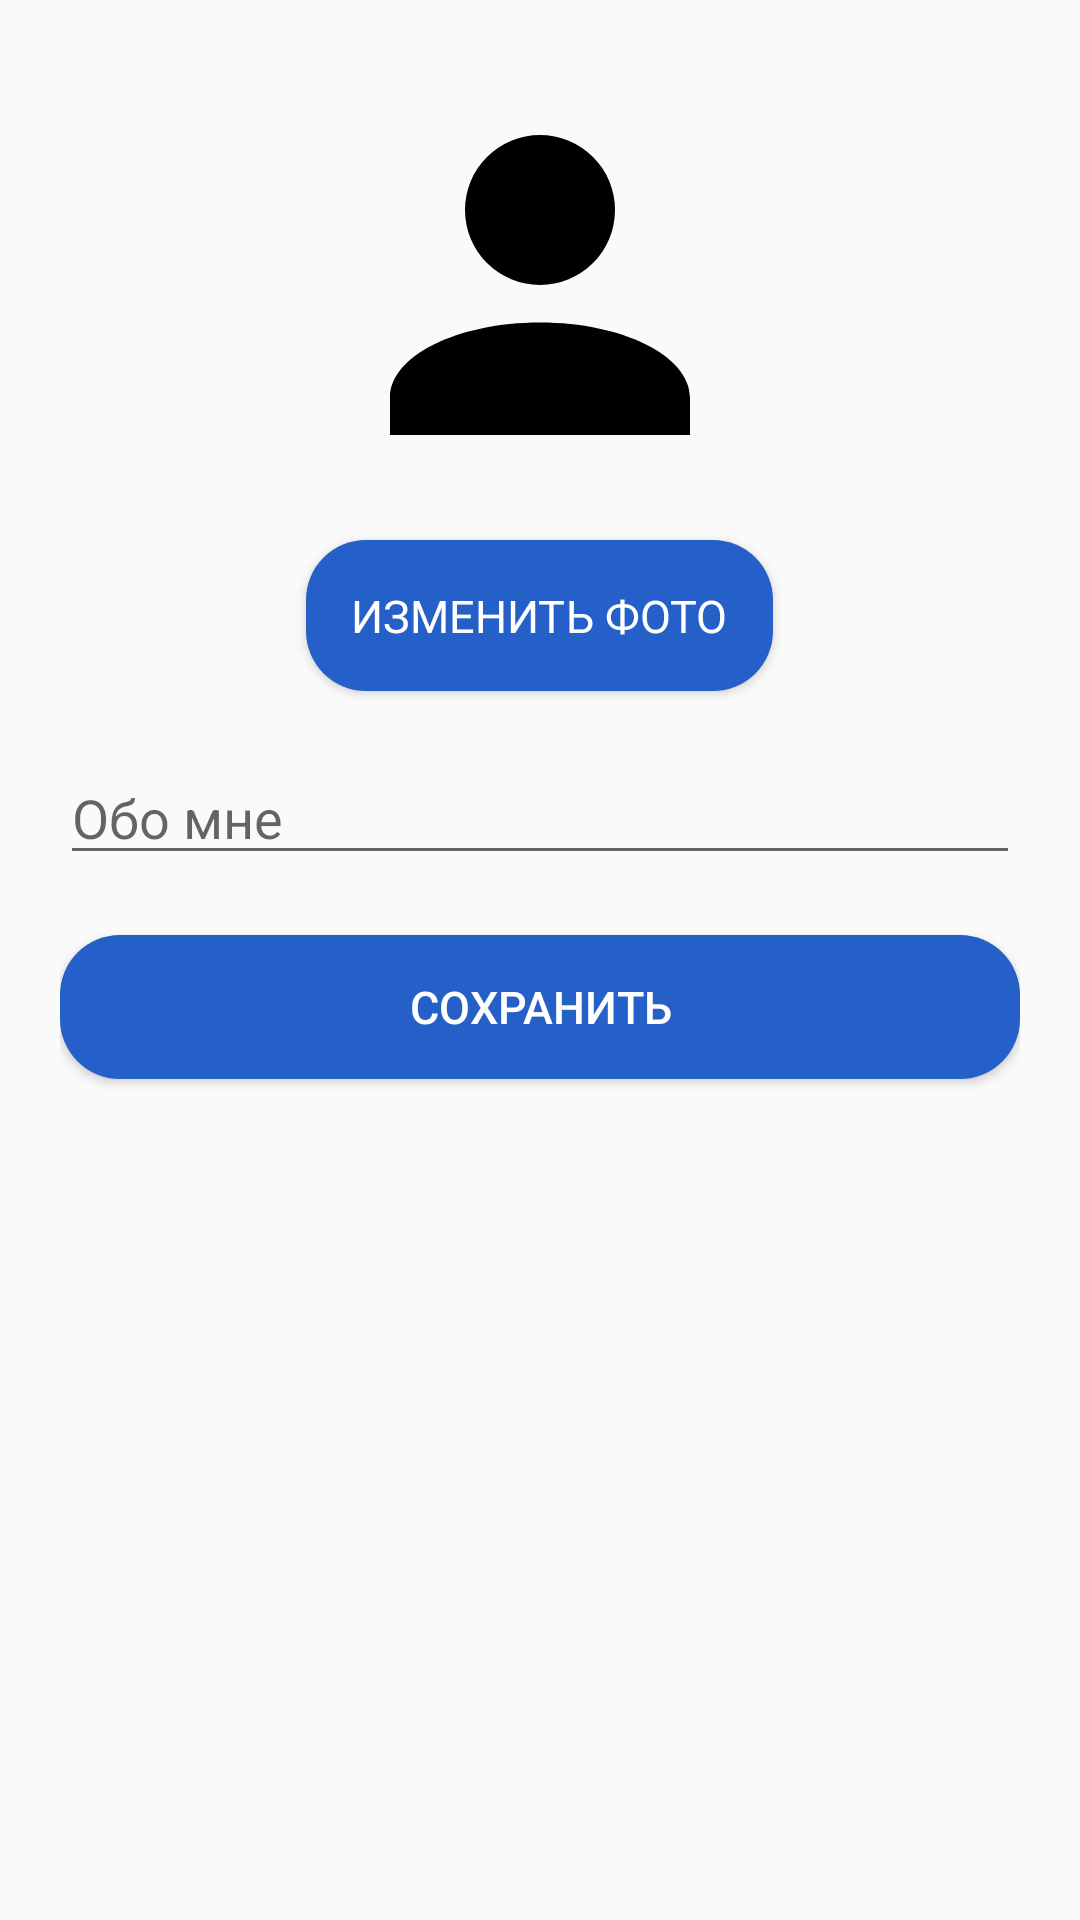

Where icons sit on this 1080*1920 app screen, as BBox(x1, y1, x2, y2):
User Image: BBox(390, 135, 690, 435)
